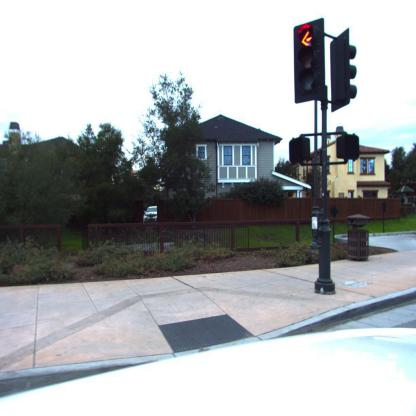car: (144, 206, 158, 223)
